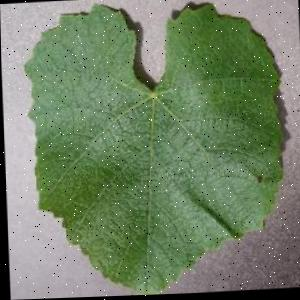Folha: (19, 0, 287, 299)
